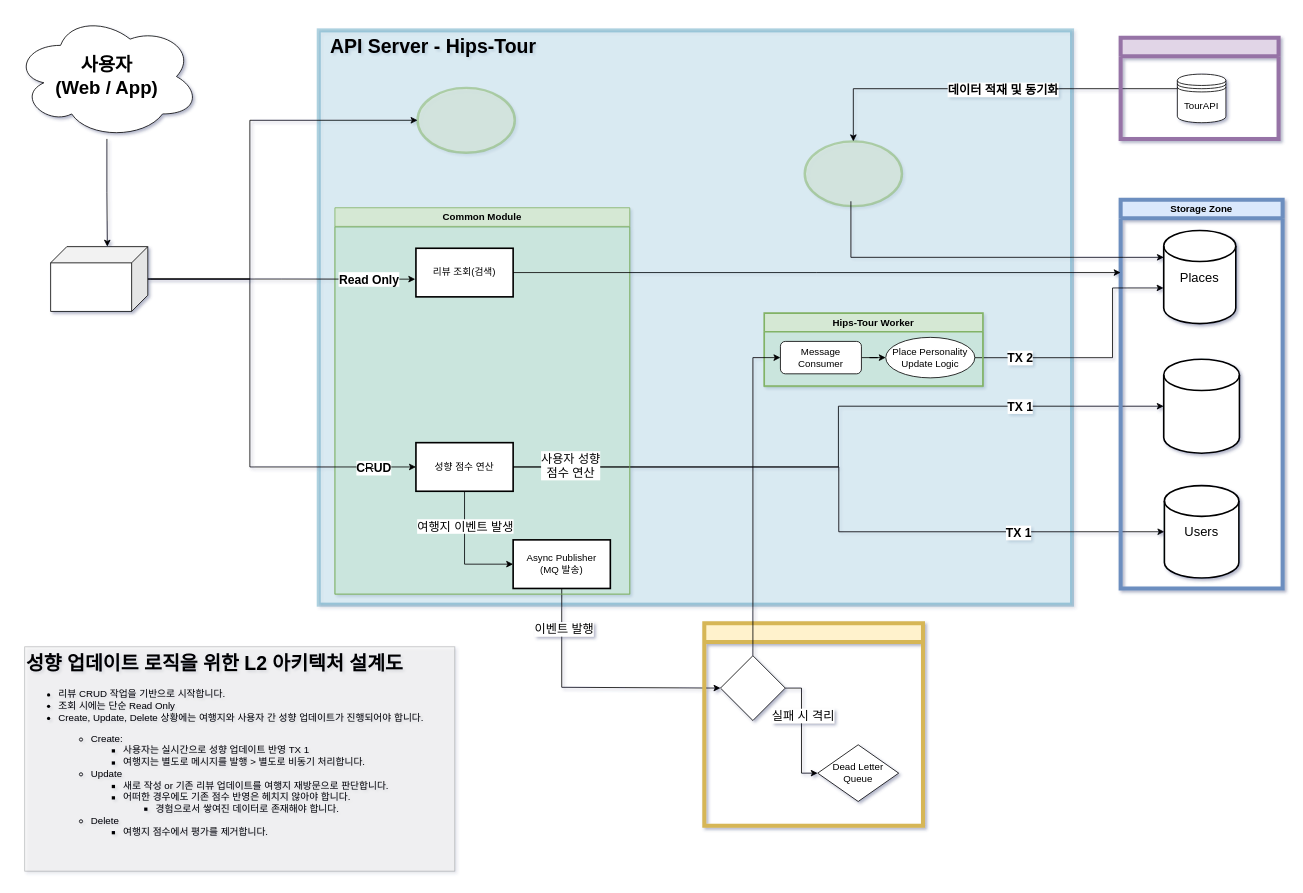
This 1303x893 diagram has some shape labels left out. Each missing label, with the box of its shape:
External Data Source: (1118, 35, 1280, 141)
Image Upload Module: (416, 86, 516, 153)
LB: (50, 246, 148, 311)
Message Infrastructure: (702, 621, 925, 827)
MQ: (720, 655, 785, 720)
Reviews: (1163, 358, 1240, 454)
Sync Module: (803, 140, 903, 207)
